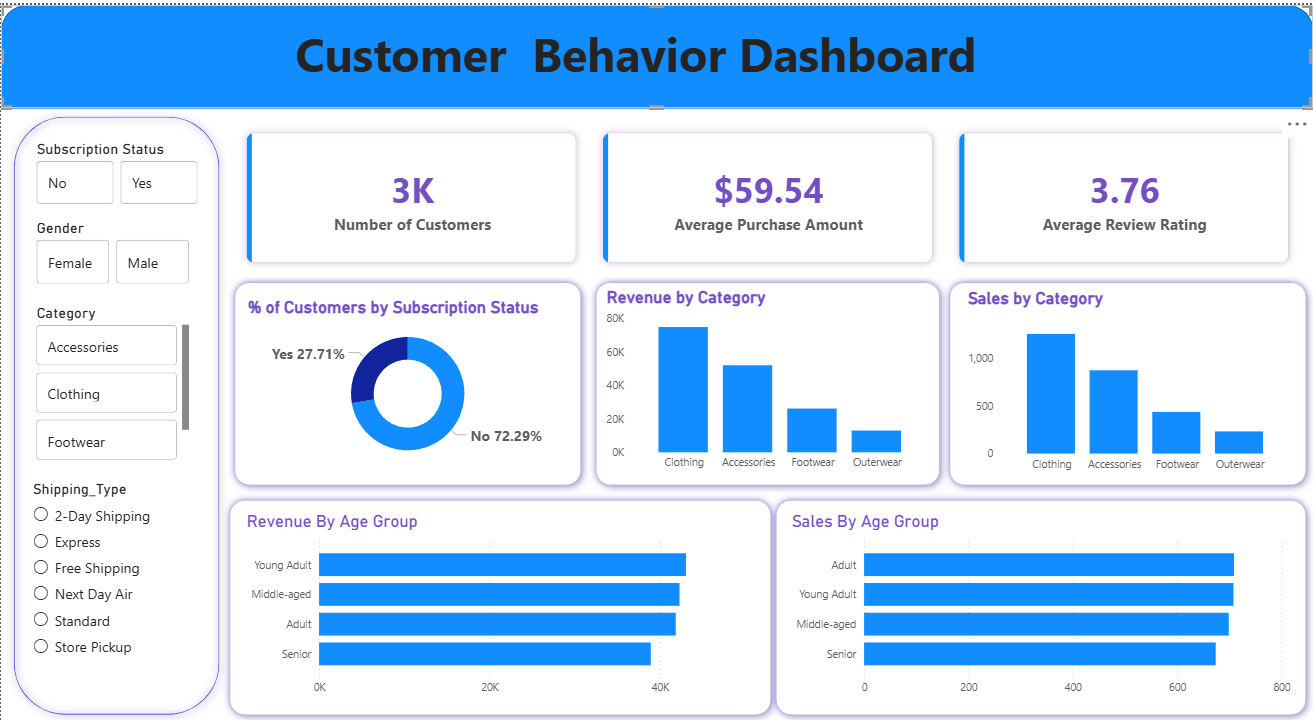

This screenshot's page, from the dashboard's own definition file:
{"tool":"powerbi","page":{"name":"Page 1","canvas":[1500,820],"ordinal":0},"visuals":[{"type":"cardVisual","fields":{"Data":["cleaned_customer_shoping_behaviour.Number of Customers","cleaned_customer_shoping_behaviour.Average Purchase Amount","cleaned_customer_shoping_behaviour.Average Review Rating"]},"box":[252.9,118.6,1247.1,204.3],"z":0},{"type":"shape","box":[0,0,1500,118.6],"z":1000},{"type":"textbox","box":[62.9,14.3,1340,90],"z":2000},{"type":"shape","box":[258.6,308.6,412.9,248.6],"z":3000},{"type":"donutChart","title":"% of Customers by Subscription Status","fields":{"Category":["cleaned_customer_shoping_behaviour.subscription_status"],"Y":["CountNonNull(cleaned_customer_shoping_behaviour.customer_id)"]},"box":[277.1,334.3,375.7,198.6],"z":4000},{"type":"shape","box":[671.4,308.6,410,248.6],"z":5000},{"type":"shape","box":[1075.7,308.6,424.3,248.6],"z":6000},{"type":"clusteredColumnChart","title":"Revenue by Category","fields":{"Category":["cleaned_customer_shoping_behaviour.category"],"Y":["Sum(cleaned_customer_shoping_behaviour.purchase_amount)"]},"box":[687.1,322.9,378.6,218.6],"z":7000},{"type":"clusteredColumnChart","title":"Sales by Category","fields":{"Category":["cleaned_customer_shoping_behaviour.category"],"Y":["CountNonNull(cleaned_customer_shoping_behaviour.customer_id)"]},"box":[1100,324.3,378.6,218.6],"z":8000},{"type":"shape","box":[5.7,118.6,252.9,701.4],"z":9000},{"type":"advancedSlicerVisual","fields":{"Values":["cleaned_customer_shoping_behaviour.subscription_status"]},"box":[35.7,154.3,195.7,78.6],"z":10000},{"type":"advancedSlicerVisual","fields":{"Values":["cleaned_customer_shoping_behaviour.gender"]},"box":[35.7,244.3,184.3,80],"z":11000},{"type":"advancedSlicerVisual","fields":{"Values":["cleaned_customer_shoping_behaviour.category"]},"box":[35.7,341.4,184.3,185.7],"z":12000},{"type":"listSlicer","fields":{"Values":["cleaned_customer_shoping_behaviour.shipping_type"]},"box":[31.4,542.9,188.6,214.3],"z":13000},{"type":"shape","box":[252.9,557.1,635.7,262.9],"z":14000},{"type":"shape","box":[877.1,557.1,622.9,262.9],"z":15000},{"type":"clusteredBarChart","title":"Sales By Age Group ","fields":{"Category":["cleaned_customer_shoping_behaviour.age_group"],"Y":["CountNonNull(cleaned_customer_shoping_behaviour.customer_id)"]},"box":[898.6,578.6,580,220],"z":16000},{"type":"clusteredBarChart","title":"Revenue By Age Group ","fields":{"Category":["cleaned_customer_shoping_behaviour.age_group"],"Y":["Sum(cleaned_customer_shoping_behaviour.purchase_amount)"]},"box":[275.7,578.6,590,220],"z":17000}]}

Visuals, with their boxes in screenshot pixels (x1, y1, x2, y2), scaled from the page's 1500x820 canvas onto the 1313x720 screenshot:
cardVisual - cleaned_customer_shoping_behaviour.Number of Customers x cleaned_customer_shoping_behaviour.Average Purchase Amount: l=221, t=104, r=1312, b=284
shape: l=0, t=0, r=1312, b=104
textbox: l=55, t=13, r=1228, b=92
shape: l=226, t=271, r=588, b=489
"% of Customers by Subscription Status" donutChart: l=243, t=294, r=571, b=468
shape: l=588, t=271, r=947, b=489
shape: l=942, t=271, r=1312, b=489
"Revenue by Category" clusteredColumnChart: l=601, t=284, r=933, b=475
"Sales by Category" clusteredColumnChart: l=963, t=285, r=1294, b=477
shape: l=5, t=104, r=226, b=719
advancedSlicerVisual - cleaned_customer_shoping_behaviour.subscription_status: l=31, t=135, r=203, b=204
advancedSlicerVisual - cleaned_customer_shoping_behaviour.gender: l=31, t=215, r=193, b=285
advancedSlicerVisual - cleaned_customer_shoping_behaviour.category: l=31, t=300, r=193, b=463
listSlicer - cleaned_customer_shoping_behaviour.shipping_type: l=27, t=477, r=193, b=665
shape: l=221, t=489, r=778, b=719
shape: l=768, t=489, r=1312, b=719
"Sales By Age Group " clusteredBarChart: l=787, t=508, r=1294, b=701
"Revenue By Age Group " clusteredBarChart: l=241, t=508, r=758, b=701
